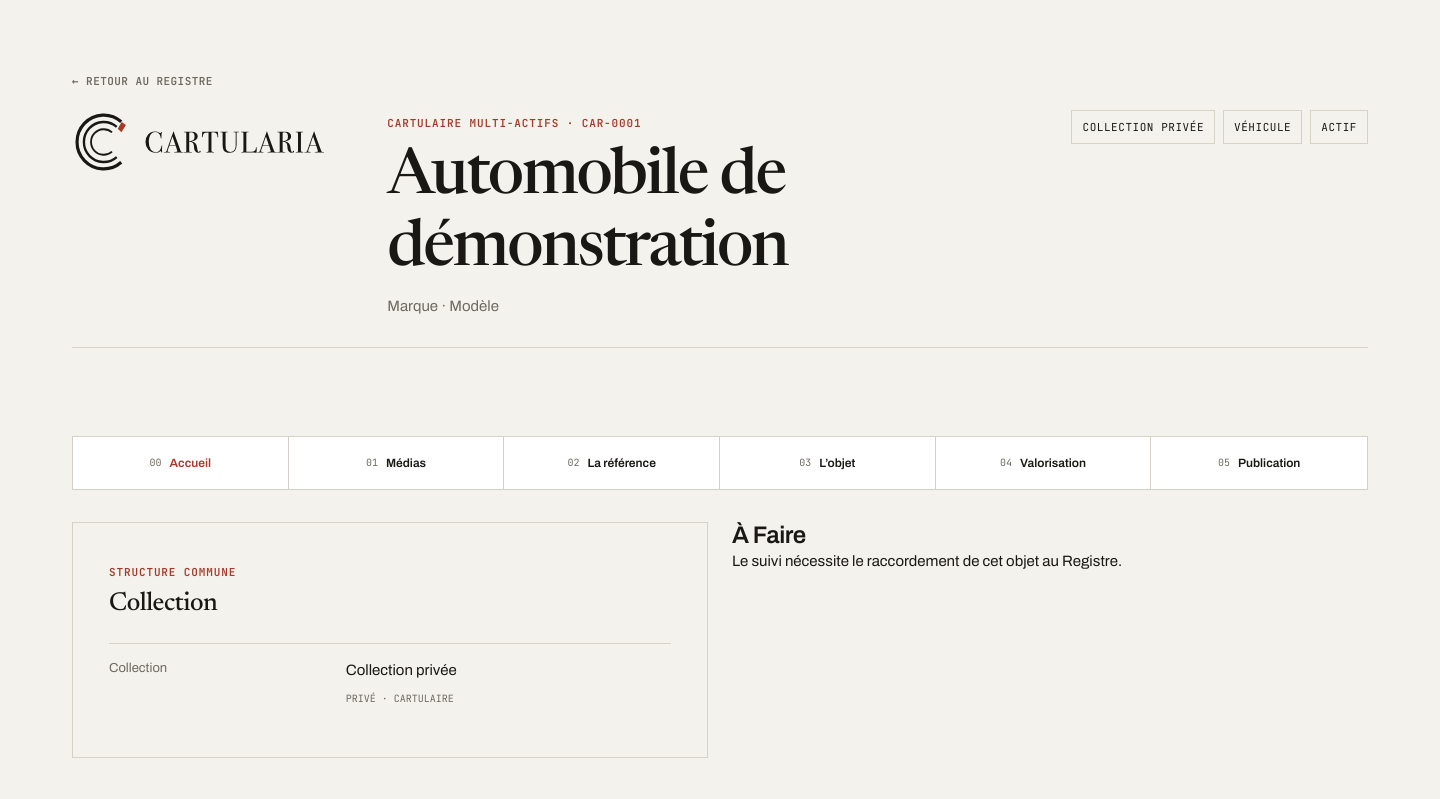
Test: gabarit universel du lecteur multi-actifs › rend les mêmes pages et les structures communes pour une verticale future
The image size is (1440, 799).
Expected: the navigation bar named "Pages du Cartulaire" is shown, [72,436,1368,490]
Expected: the heading "Collection" is shown, [109,590,236,619]
What coordinates should you click on to do the following:
click the button named "03L’objet"
I would click on:
 (828, 463)
Its box is [720,437,936,489].
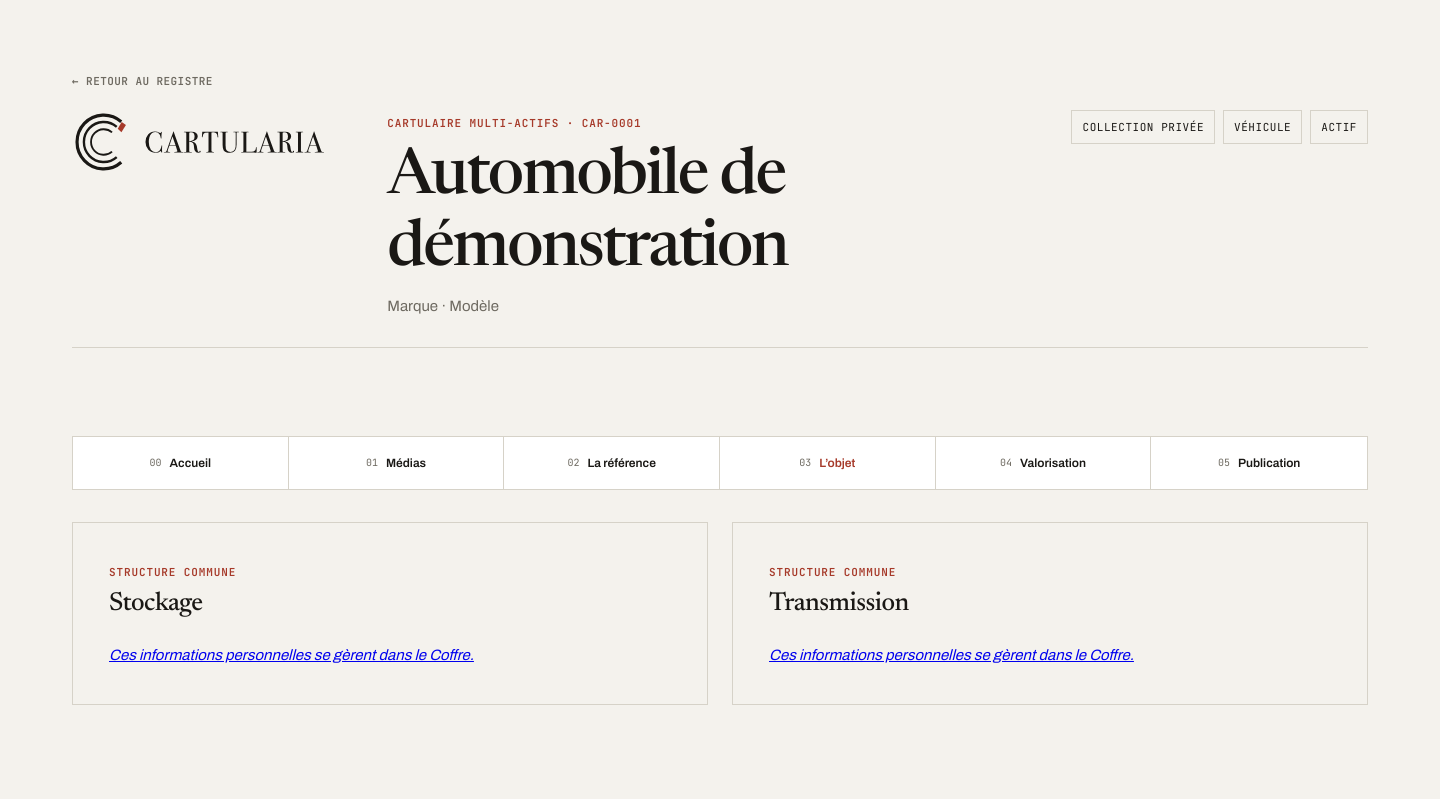
Expected: the heading "Stockage" is shown, [109,591,202,617]
Expected: the heading "Transmission" is shown, [769,590,909,619]
What coordinates should you click on to do the following:
click the button named "02La référence"
I would click on:
 (612, 463)
Its box is [504,437,720,489].
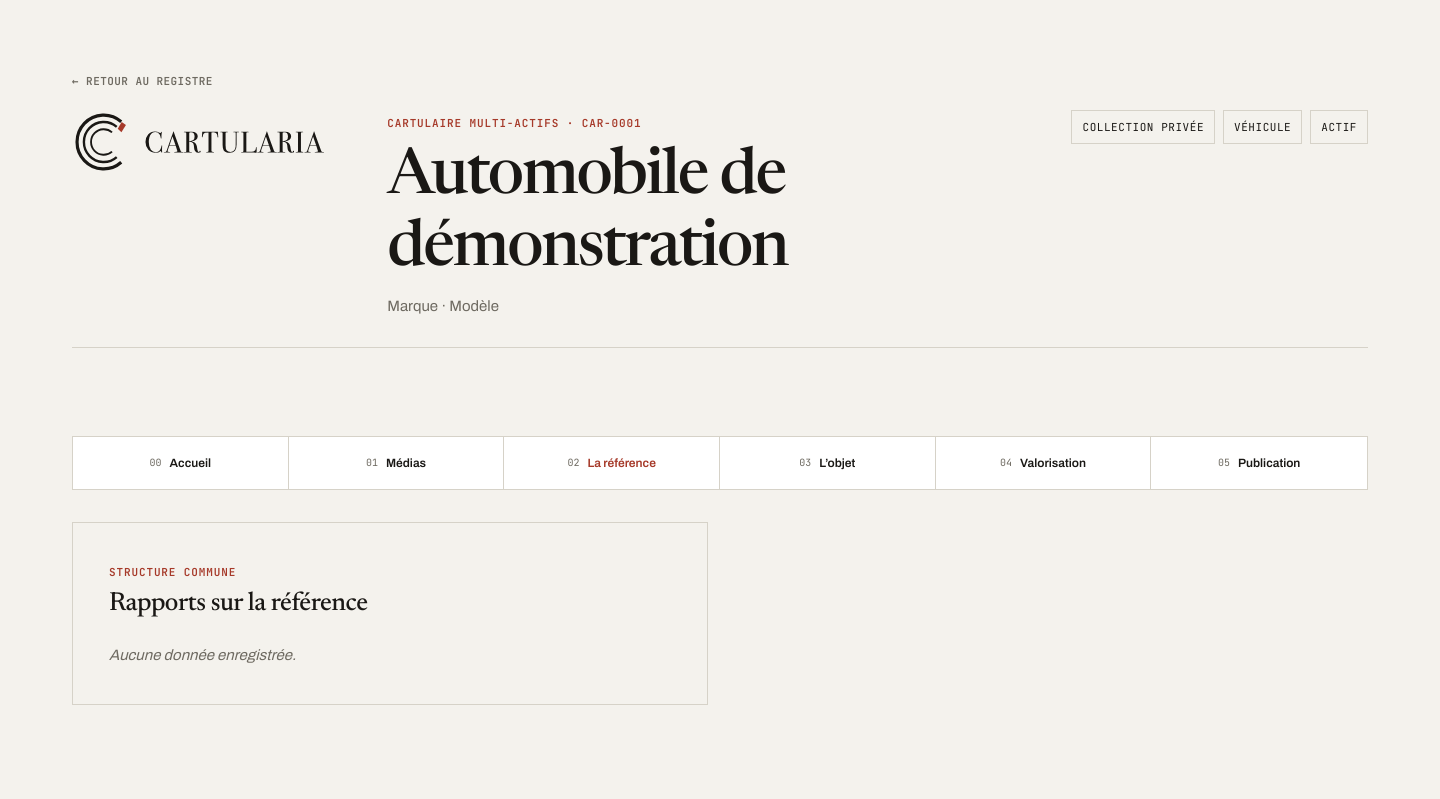
Expected: the heading "Rapports sur la référence" is shown, [109,590,368,619]
What coordinates should you click on to do the following:
click the button named "05Publication"
I would click on:
 (1259, 463)
Its box is [1151,437,1367,489].
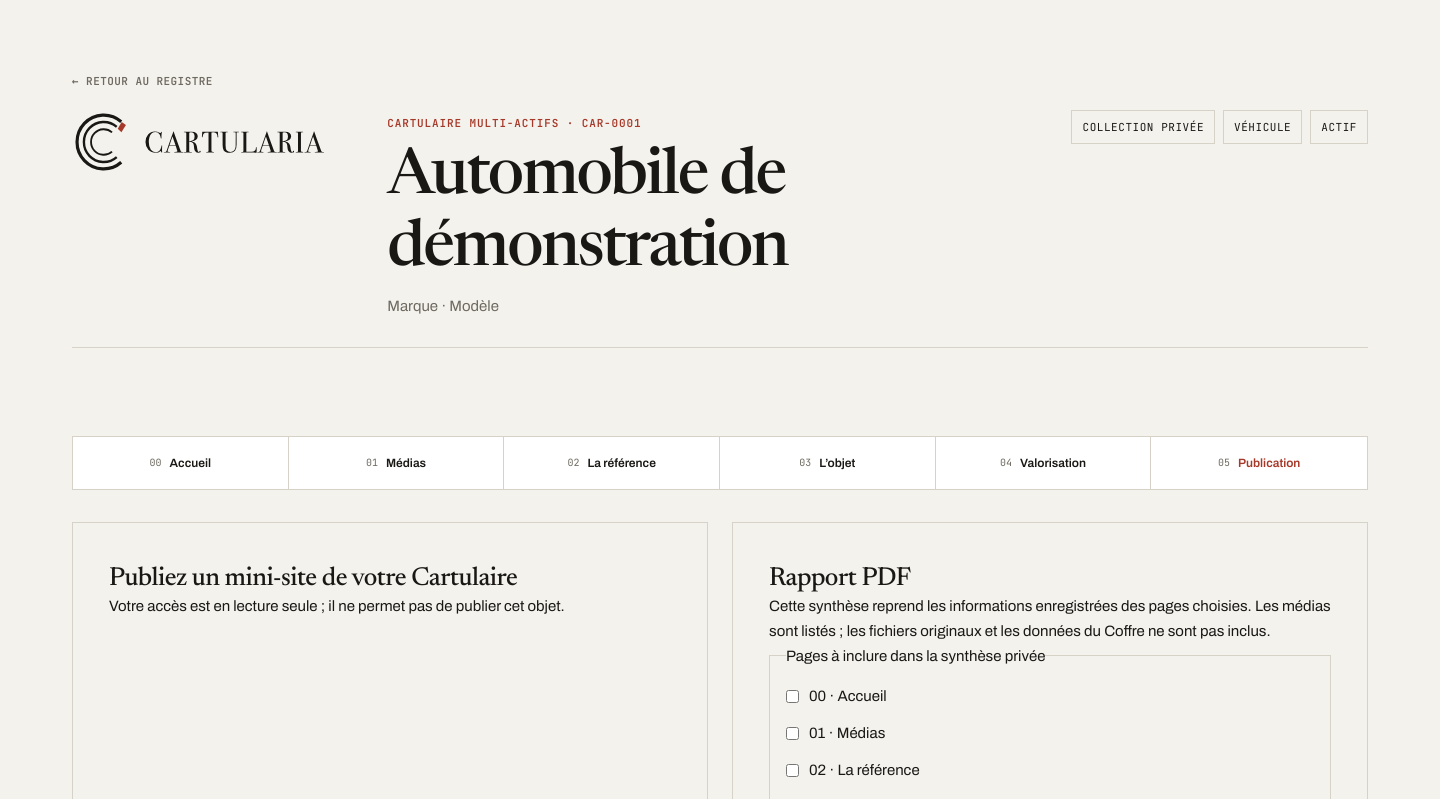
Expected: the heading "Publiez un mini-site de votre Cartulaire" is shown, [109,566,517,592]
Expected: the heading "Rapport PDF" is shown, [769,566,910,592]
